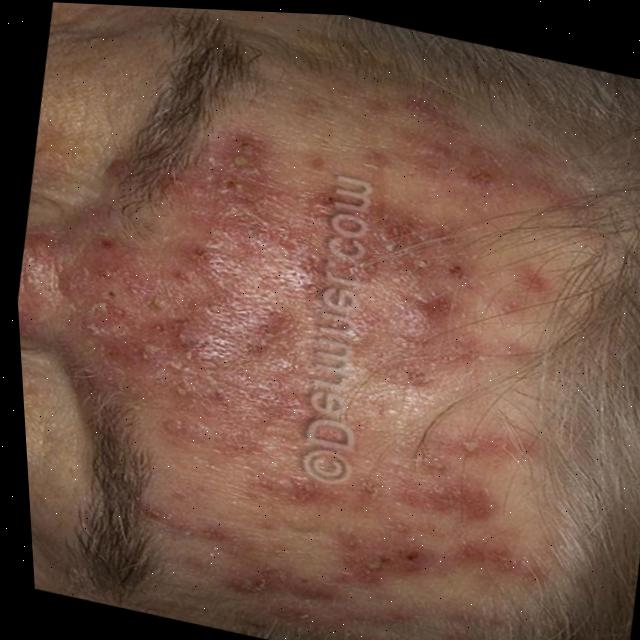Rosacea: (1, 13, 640, 640)
